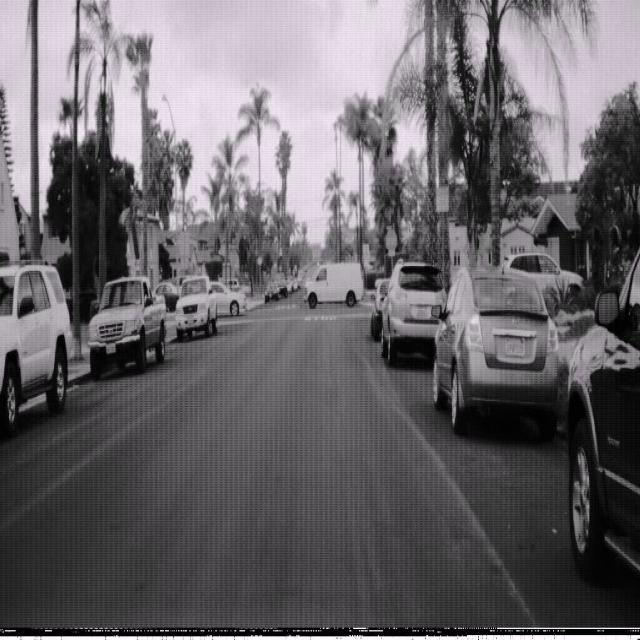stop: (385, 227, 397, 252)
